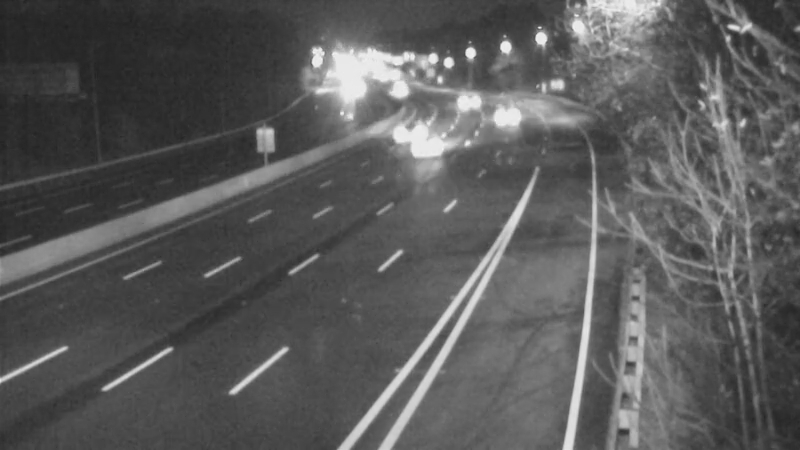vehicle: (408, 122, 458, 172), (383, 102, 433, 152), (479, 85, 529, 135), (443, 77, 493, 127)
